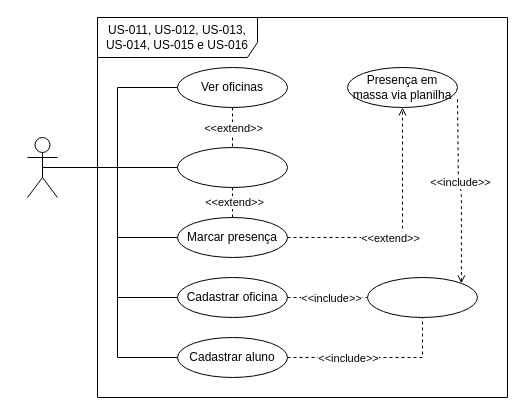
Some shapes in this 525 by 415 pixel diagram are drawn without their labels. The centre of each missing label's shape, as x and y in pixels:
Professor: point (42, 167)
Validar informações: point (422, 297)
Ver alunos matriculados: point (232, 167)
